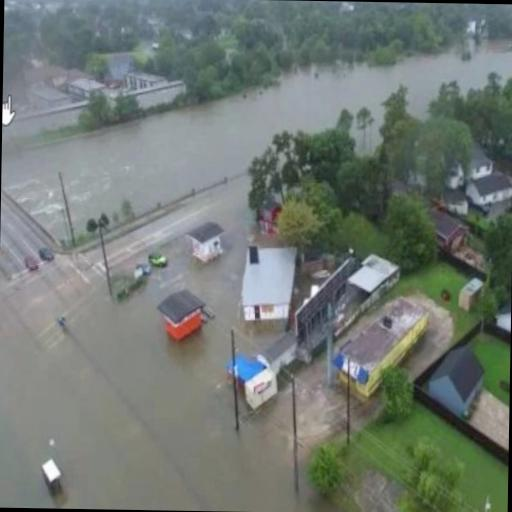flood: (1, 46, 512, 236), (0, 286, 334, 512), (299, 393, 344, 460), (404, 332, 451, 376)
house: (327, 293, 434, 400), (238, 242, 298, 329), (426, 345, 485, 418), (156, 282, 216, 344), (466, 169, 510, 230), (188, 216, 228, 266), (40, 456, 64, 494)
